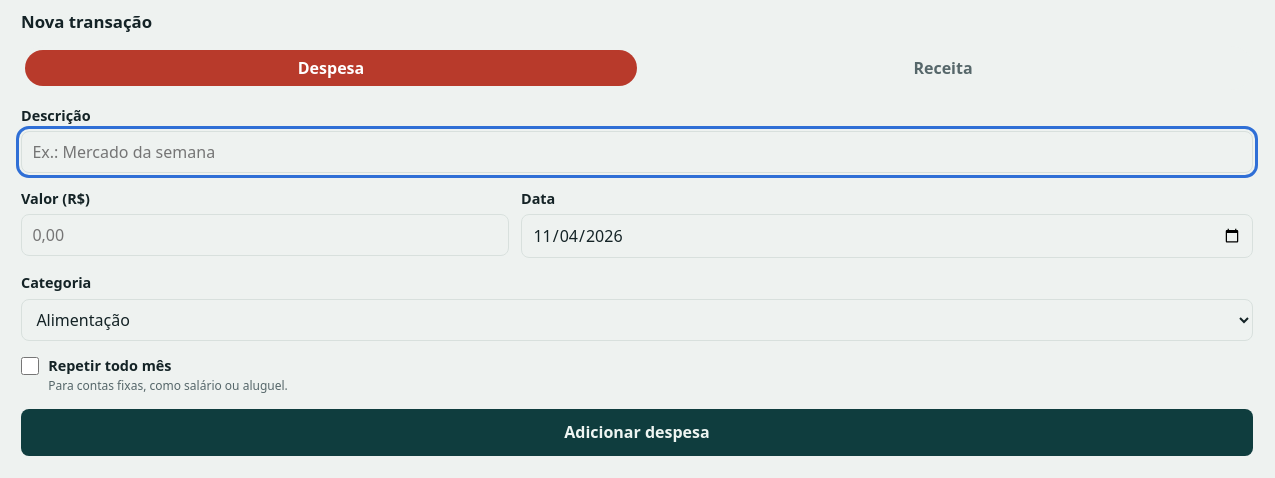
Test: TransactionForm › limpa descrição e valor depois de adicionar
This screenshot has width=1275, height=478.
Type "Ônibus" into the field labelled "Descrição" at x=637, y=152, box [21, 131, 1253, 173]
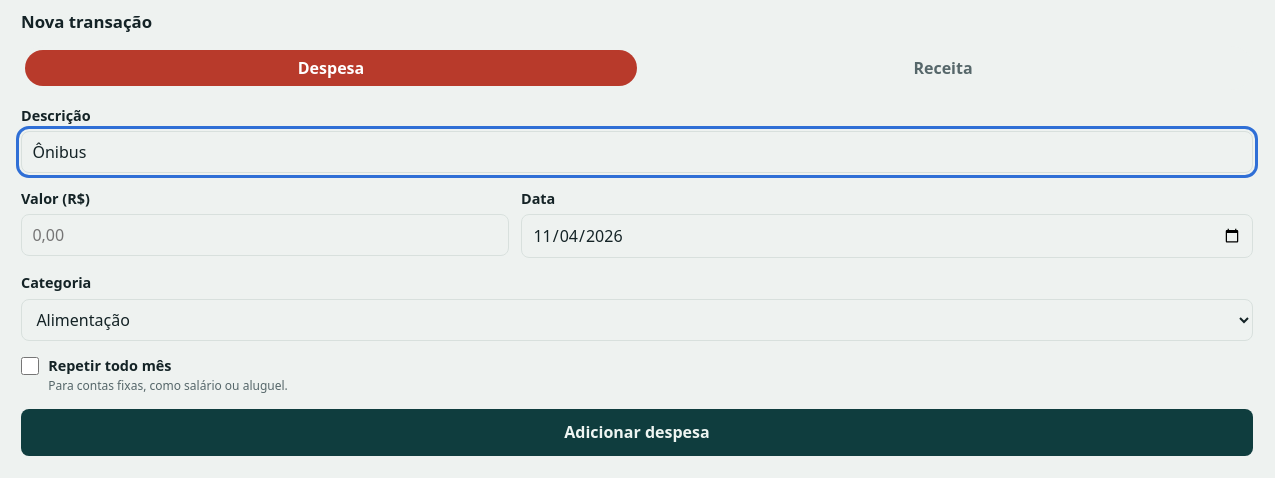
Type "5" into the field labelled "Valor (R$)" at x=265, y=235, box [21, 214, 509, 256]
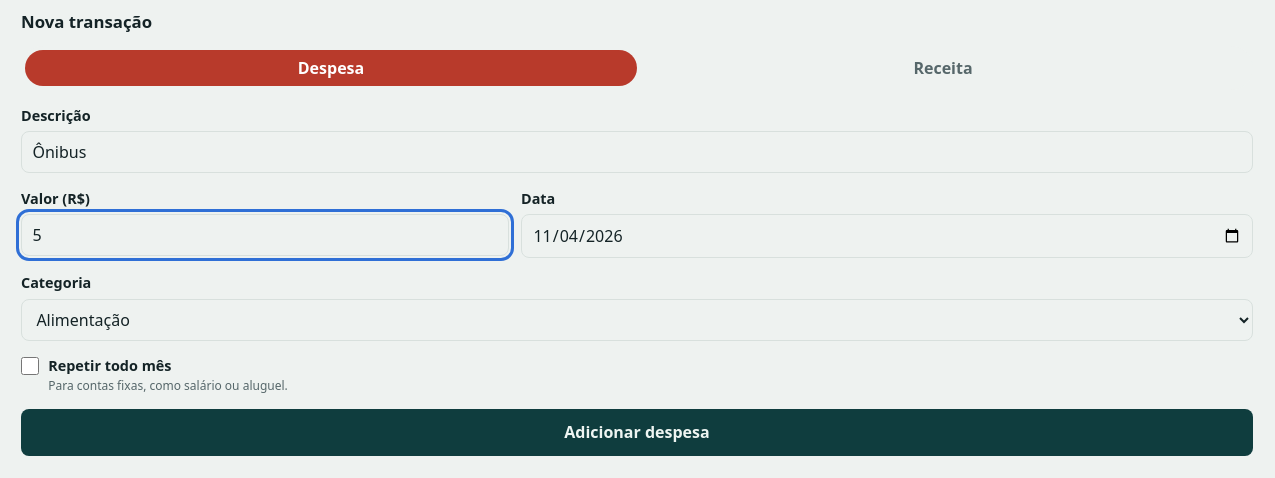
Click the button "Adicionar despesa" at x=637, y=432, box [21, 409, 1253, 456]
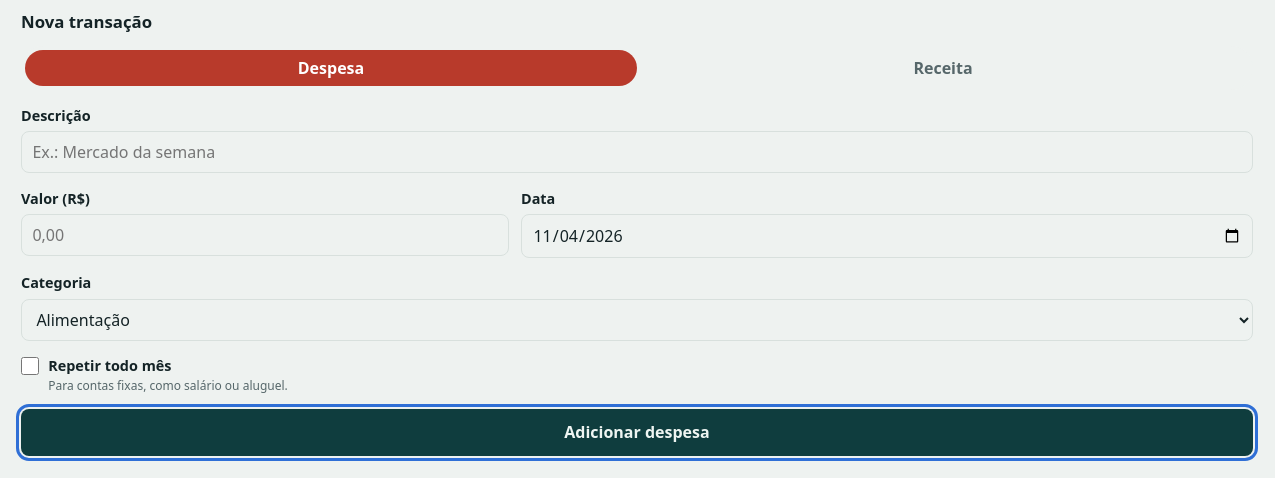
Expected: the field labelled "Descrição" is empty, [21, 131, 1253, 173]
Expected: the field labelled "Valor (R$)" is empty, [21, 214, 509, 256]
